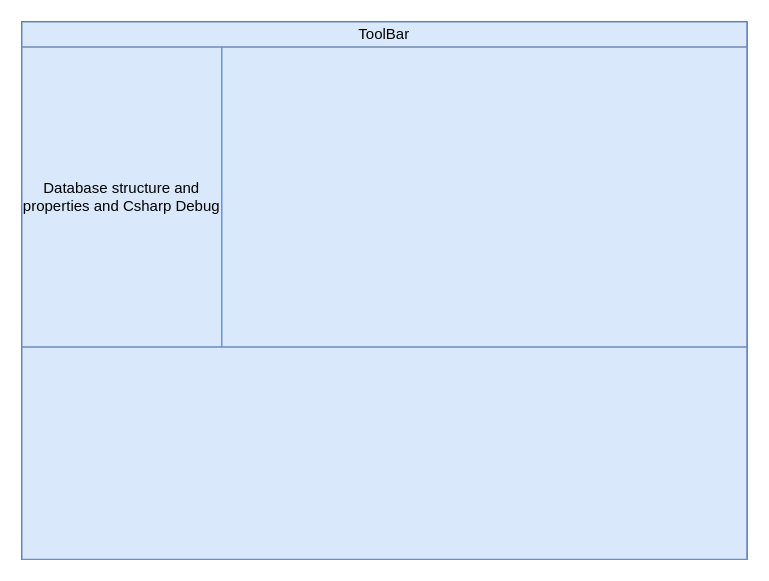
This 769x581 diagram has some shape labels left out. The shapes that lost their labels are listed below. From the top down, each one's centre as x and y in pixels, then its label:
At point 484,196: "storages node editor".
At point 384,452: "Console".
